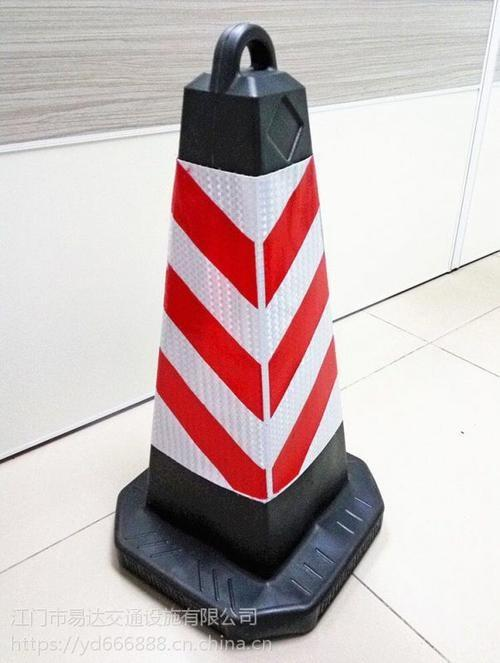cone_barrel: (125, 29, 379, 615)
